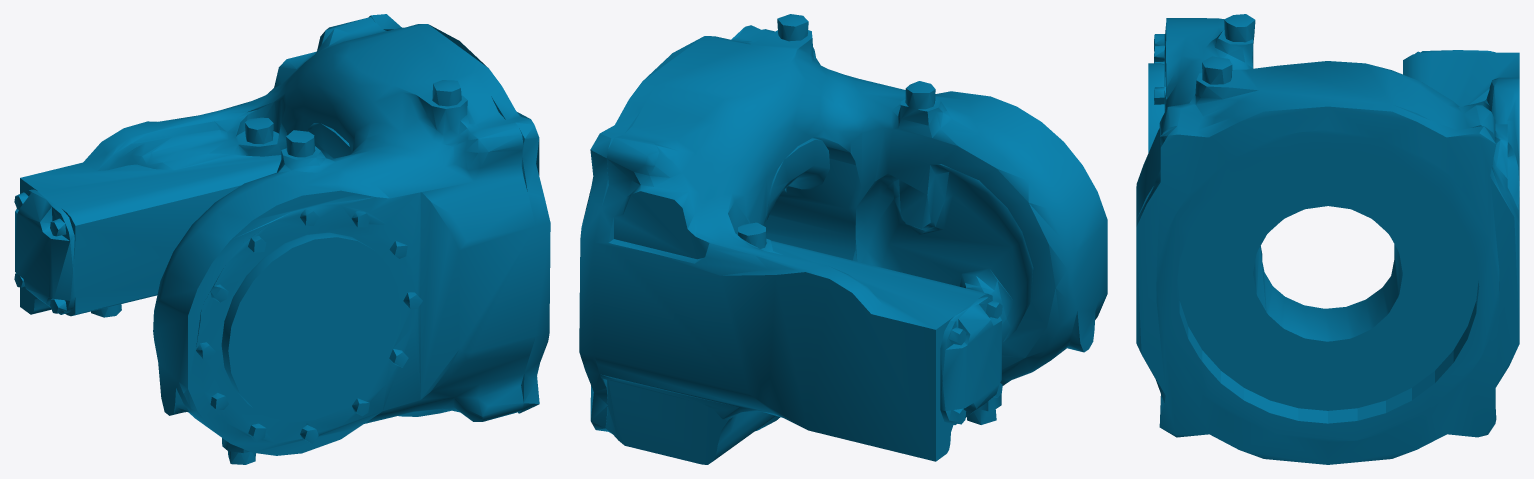
3 renders of one model, left to right at view 1: azimuth 30°, elevation 25°; view 2: azimuth 150°, elevation 25°; view 3: azimuth 270°, elevation 25°, orthographic. The views are drawn at different scales.
Visible parts, largest first — view 1: f_1-06vxh12-a00_lk5; view 2: f_1-06vxh12-a00_lk5; view 3: f_1-06vxh12-a00_lk5.
Part boxes in pixels (left/top/right/bottom): f_1-06vxh12-a00_lk5: left=14, top=14, right=550, bottom=464; f_1-06vxh12-a00_lk5: left=579, top=14, right=1107, bottom=464; f_1-06vxh12-a00_lk5: left=1136, top=14, right=1519, bottom=464.
Size of the model in its own units: 0.1489 by 0.128 by 0.1366.
